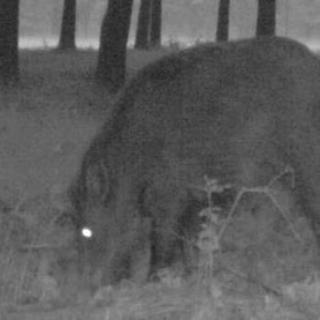Pig: (42, 32, 320, 282)
